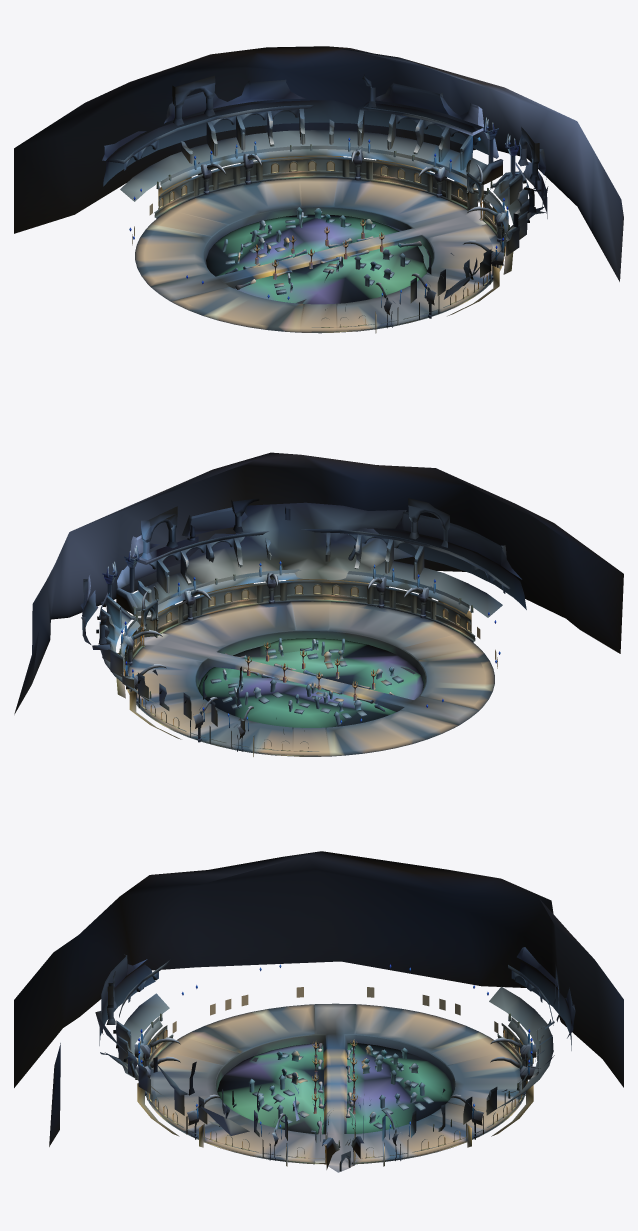
File: 14Arena.gltf
3 views of the same model, one above another, from view 1: azimuth 30°, elevation 25°; view 2: azimuth 150°, elevation 25°; view 3: azimuth 270°, elevation 25° (orthographic). The views are drawn at different scales.
Parts seen in each view (by area): view 1: stg040_o48_Mesh_0051, stg040_o48_Mesh_0104, stg040_k48_Mesh_0008, stg040_o48_Mesh_0066, stg040_o48_Mesh_0091, stg040_o48_Mesh_0023, stg040_o48_Mesh_0085, stg040_o48_Mesh_0060, stg040_o48_Mesh_0050, stg040_o48_Mesh_0105, stg040_o48_Mesh_0038, stg040_o48_Mesh_0106 (+15 smaller); view 2: stg040_o48_Mesh_0051, stg040_o48_Mesh_0104, stg040_k48_Mesh_0008, stg040_o48_Mesh_0001, stg040_o48_Mesh_0091, stg040_o48_Mesh_0023, stg040_o48_Mesh_0066, stg040_o48_Mesh_0060, stg040_o48_Mesh_0050, stg040_o48_Mesh_0085, stg040_o48_Mesh_0105, stg040_o48_Mesh_0038 (+12 smaller); view 3: stg040_o48_Mesh_0051, stg040_o48_Mesh_0104, stg040_k48_Mesh_0008, stg040_o48_Mesh_0091, stg040_o48_Mesh_0023, stg040_o48_Mesh_0085, stg040_o48_Mesh_0105, stg040_o48_Mesh_0060, stg040_o48_Mesh_0066, stg040_o48_Mesh_0106, stg040_o48_Mesh_0050, stg040_o48_Mesh_0055 (+11 smaller).
Boxes of the visible parts, bbox=[...] form: stg040_o48_Mesh_0051: bbox=[14, 46, 623, 281]; stg040_o48_Mesh_0104: bbox=[144, 181, 493, 328]; stg040_k48_Mesh_0008: bbox=[206, 214, 427, 304]; stg040_o48_Mesh_0066: bbox=[103, 82, 548, 234]; stg040_o48_Mesh_0091: bbox=[135, 145, 519, 332]; stg040_o48_Mesh_0023: bbox=[124, 77, 546, 332]; stg040_o48_Mesh_0085: bbox=[120, 130, 521, 223]; stg040_o48_Mesh_0060: bbox=[154, 110, 509, 328]; stg040_o48_Mesh_0050: bbox=[104, 81, 537, 303]; stg040_o48_Mesh_0105: bbox=[151, 210, 485, 333]; stg040_o48_Mesh_0038: bbox=[150, 75, 534, 332]; stg040_o48_Mesh_0106: bbox=[151, 178, 484, 300]; stg040_o48_Mesh_0051: bbox=[14, 452, 623, 714]; stg040_o48_Mesh_0104: bbox=[135, 605, 485, 752]; stg040_k48_Mesh_0008: bbox=[198, 638, 423, 727]; stg040_o48_Mesh_0001: bbox=[187, 502, 413, 583]; stg040_o48_Mesh_0091: bbox=[101, 569, 494, 756]; stg040_o48_Mesh_0023: bbox=[83, 507, 510, 756]; stg040_o48_Mesh_0066: bbox=[82, 510, 526, 671]; stg040_o48_Mesh_0060: bbox=[104, 553, 475, 752]; stg040_o48_Mesh_0050: bbox=[83, 513, 506, 731]; stg040_o48_Mesh_0085: bbox=[100, 561, 502, 704]; stg040_o48_Mesh_0105: bbox=[142, 634, 478, 756]; stg040_o48_Mesh_0038: bbox=[133, 498, 479, 756]; stg040_o48_Mesh_0051: bbox=[14, 851, 623, 1146]; stg040_o48_Mesh_0104: bbox=[154, 1008, 516, 1159]; stg040_k48_Mesh_0008: bbox=[217, 1043, 452, 1134]; stg040_o48_Mesh_0091: bbox=[139, 1004, 531, 1164]; stg040_o48_Mesh_0023: bbox=[101, 956, 572, 1169]; stg040_o48_Mesh_0085: bbox=[117, 986, 553, 1108]; stg040_o48_Mesh_0105: bbox=[163, 1037, 507, 1172]; stg040_o48_Mesh_0060: bbox=[130, 1030, 540, 1157]; stg040_o48_Mesh_0066: bbox=[99, 958, 575, 1131]; stg040_o48_Mesh_0106: bbox=[163, 1003, 507, 1130]; stg040_o48_Mesh_0050: bbox=[101, 947, 554, 1171]; stg040_o48_Mesh_0055: bbox=[248, 1045, 433, 1129].
Bounding box in the file's own units: 252 × 75.83 × 254.
